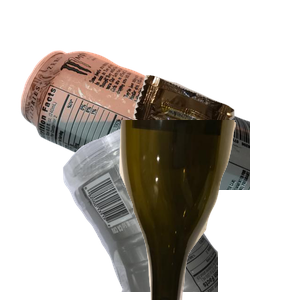glass: (117, 120, 300, 300)
metal: (18, 48, 258, 228)
plastic: (60, 120, 300, 300)
trash: (131, 73, 300, 202)
